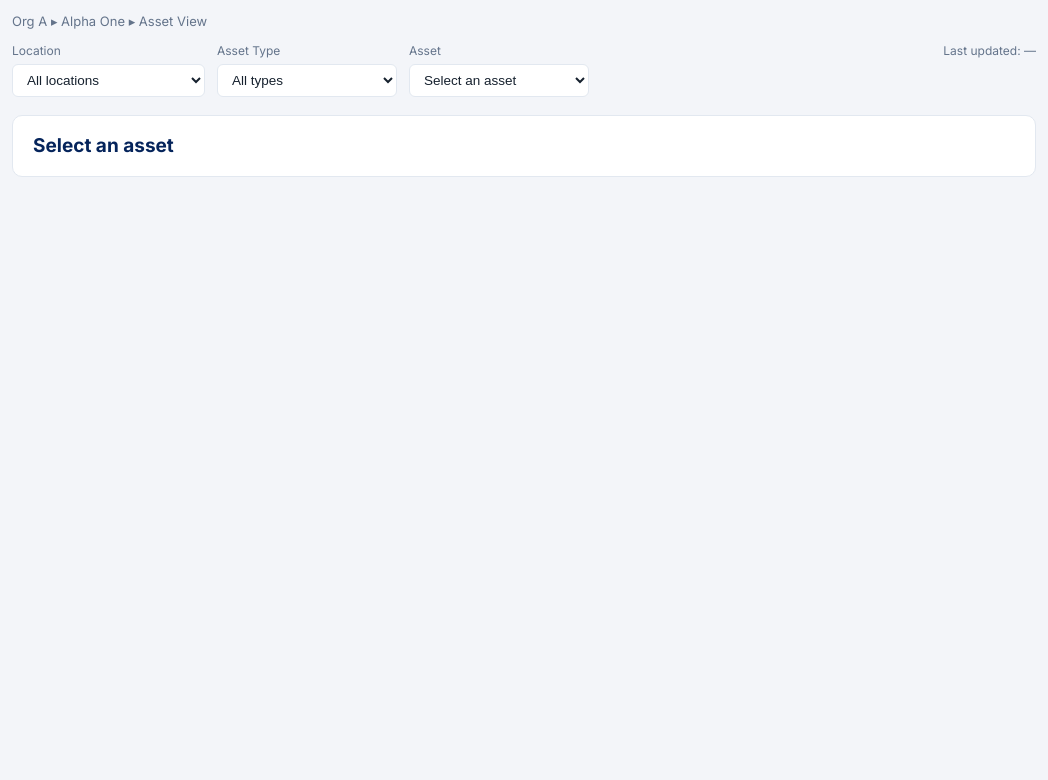
Test: AssetView › shows the selected asset's name as the breadcrumb leaf, not a hardcoded label
This screenshot has width=1048, height=780.
Expected: the text with test id "hierarchy-crumb-leaf" reads "Asset View", [139, 13, 207, 29]
Select "AHU 01" in the dropdown with test id "filter-asset": (499, 80) [409, 64, 589, 96]
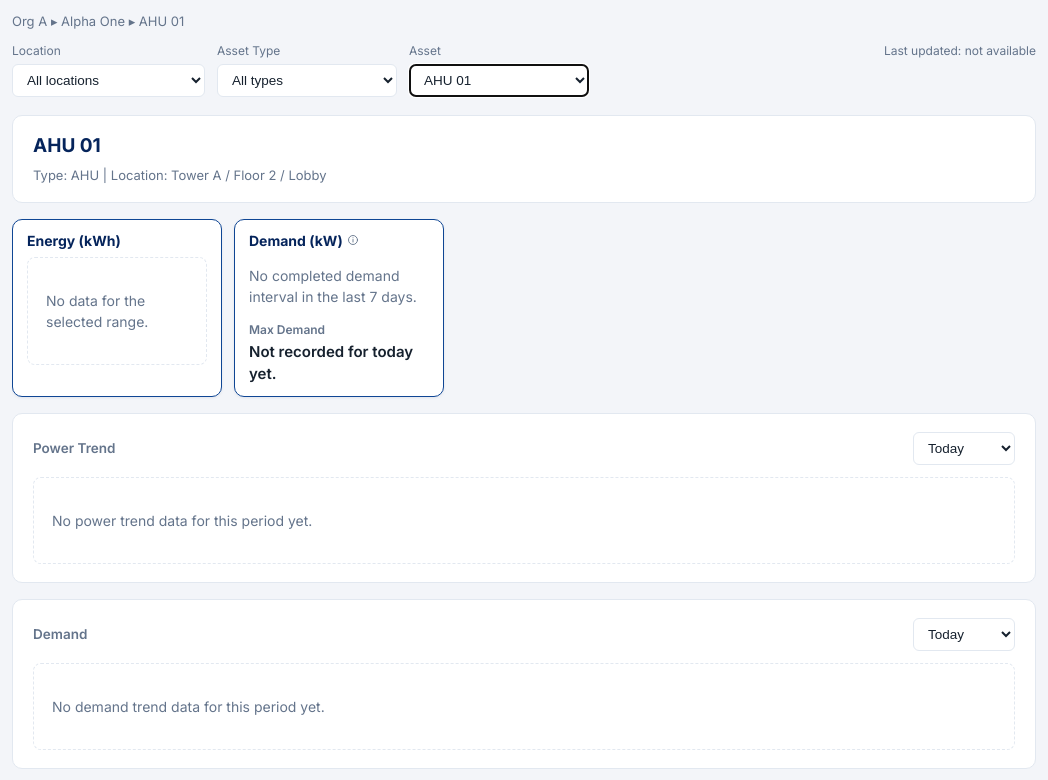
Expected: the text with test id "hierarchy-crumb-leaf" reads "AHU 01", [139, 13, 184, 29]
